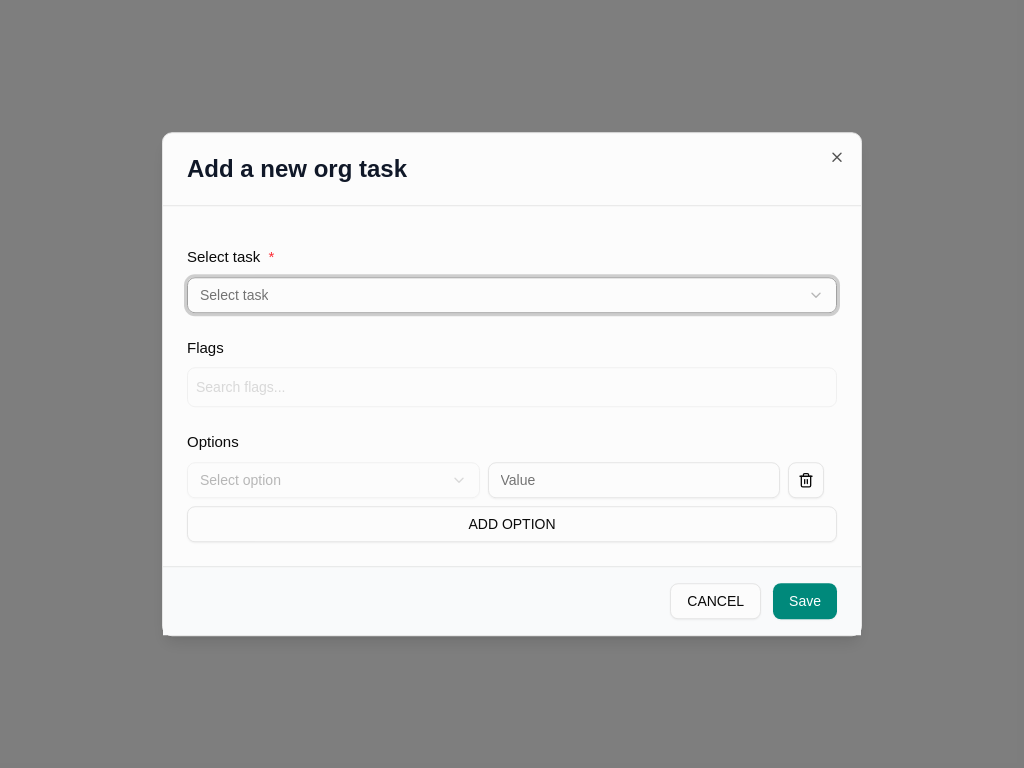
it: CreateTaskDialog › shows task templates in select but excludes git-pull and dbt-clean
The image size is (1024, 768).
Click the dropdown with test id "selecttask" at (234, 295), box [187,277,837,313]
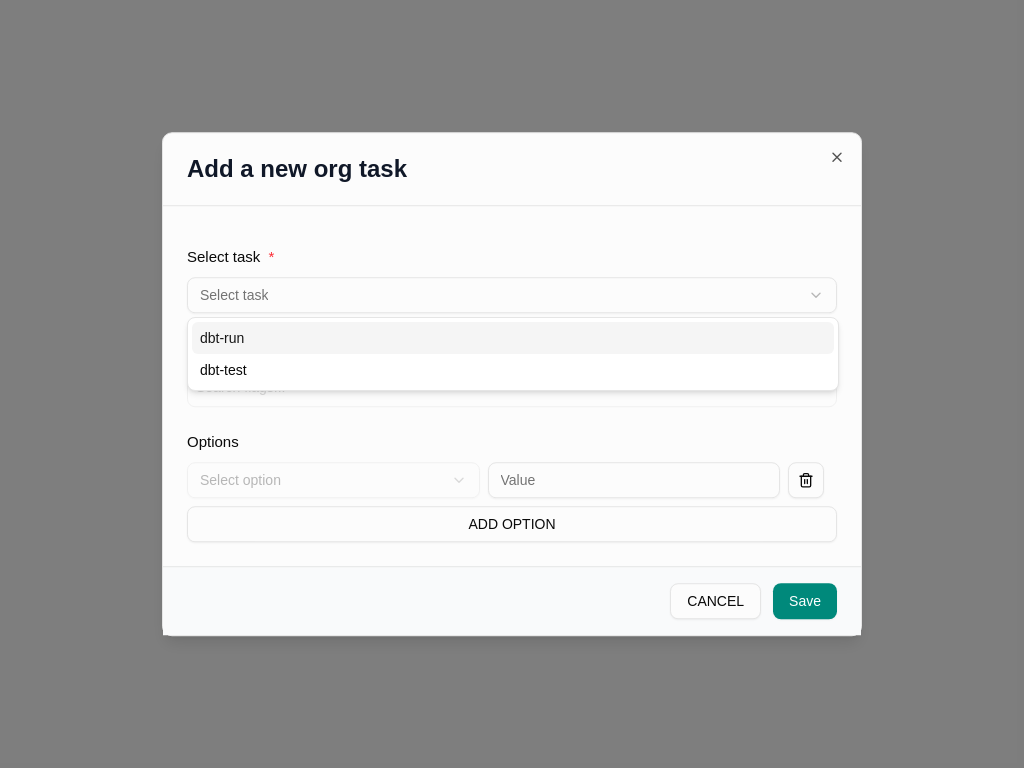
Now the option "dbt-run" is shown, box [192,322,834,354]
Now the option "dbt-test" is shown, box [200,362,247,378]
